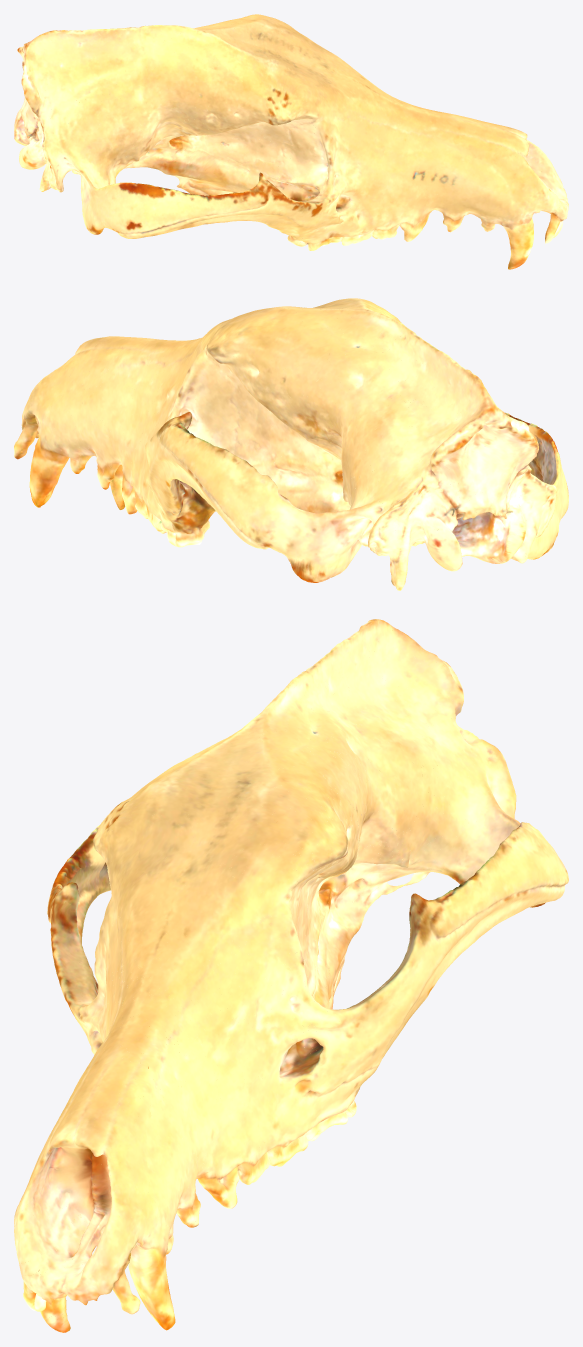
File: thylacine.glb
The picture shows the model from 3 angles, top to bottom: view 1: azimuth 30°, elevation 25°; view 2: azimuth 150°, elevation 25°; view 3: azimuth 270°, elevation 25°; orthographic projection. The views are drawn at different scales.
Visible parts, largest first — view 1: Object_2, Object_3, Object_4, Object_6, Object_5; view 2: Object_5, Object_3, Object_4, Object_6, Object_2; view 3: Object_5, Object_3, Object_4, Object_2, Object_6.
Part boxes in pixels (x1,y1,x2,y2): Object_2: (23,20,413,246); Object_3: (17,25,453,250); Object_4: (14,14,568,269); Object_6: (19,18,568,265); Object_5: (194,15,567,202); Object_5: (14,312,419,589); Object_3: (74,298,538,563); Object_4: (35,301,496,571); Object_6: (80,306,463,590); Object_2: (74,298,568,563); Object_5: (61,733,568,1330); Object_3: (80,619,495,1189); Object_4: (14,619,508,1332); Object_2: (47,623,371,1204); Object_6: (15,653,496,1330).
Bounding box in the file's own units: 0.2044 × 0.1105 × 0.13.
Materials: 1 (1 with a texture image).
